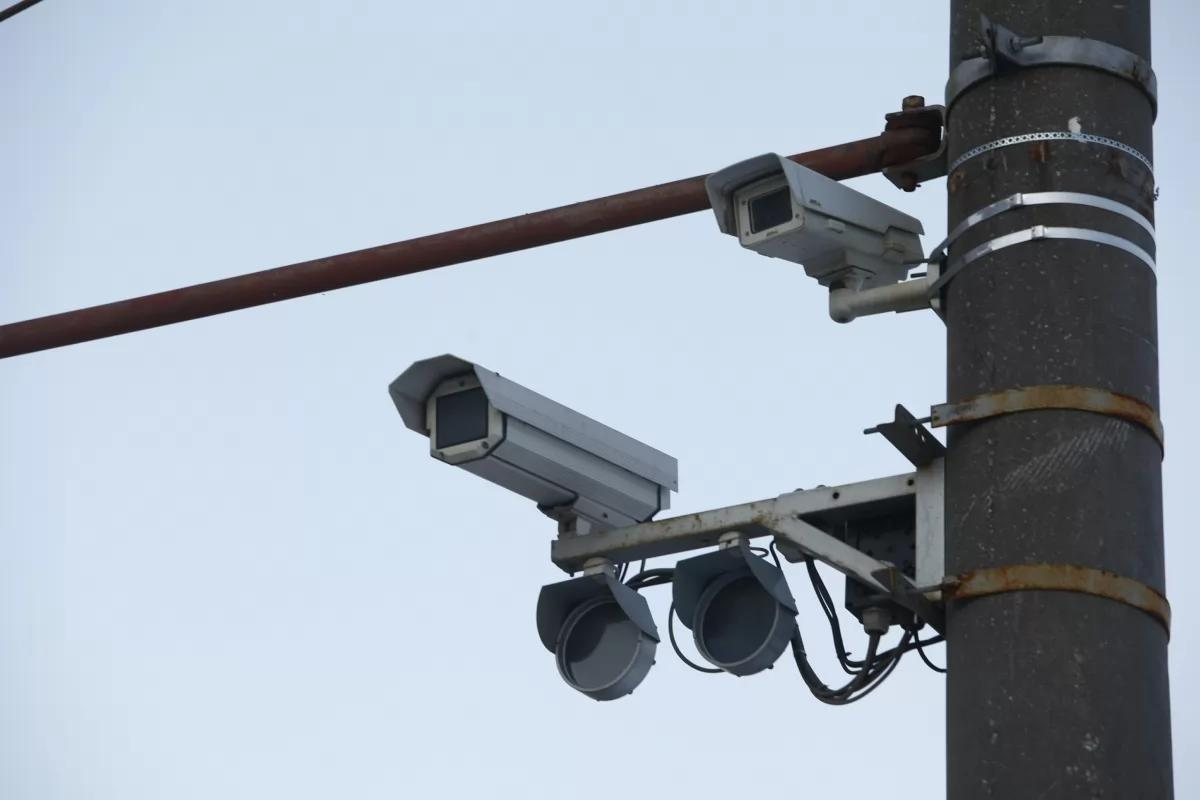Monitor: (387, 351, 679, 535), (704, 150, 930, 322)
